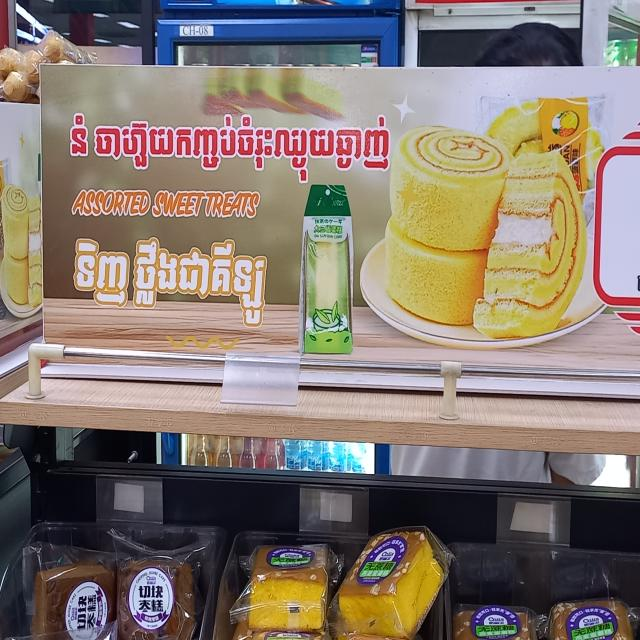1: (64, 102, 396, 184)
Yolov11kh: (71, 228, 272, 336)
